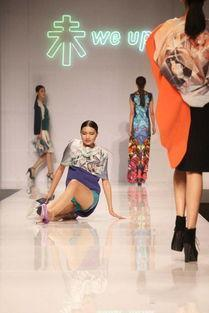Fall-Detected: (33, 114, 125, 227)
